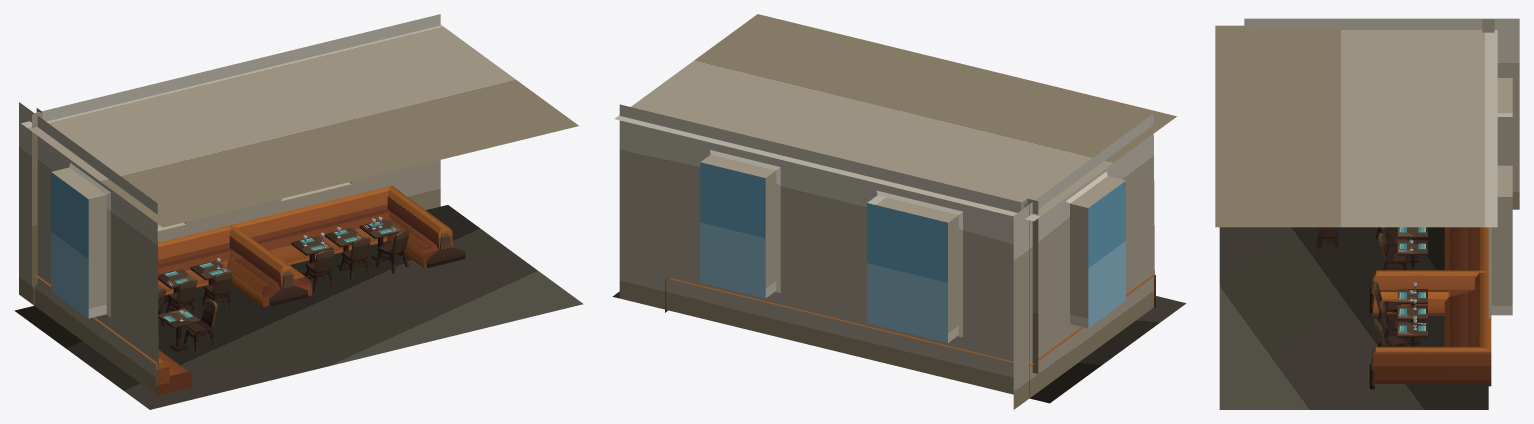
The model's file is RestaurantTextured.fbx.
The picture shows the model from 3 angles, left to right: view 1: azimuth 30°, elevation 25°; view 2: azimuth 150°, elevation 25°; view 3: azimuth 270°, elevation 25°; orthographic projection.
Visible parts, largest first — view 1: polySurface170, polySurface198, polySurface186, polySurface197, polySurface188, polySurface185, polySurface173, polySurface177, polySurface196, polySurface187, polySurface168, polySurface184 (+5 smaller); view 2: polySurface188, polySurface170, polySurface186, polySurface198, polySurface173, polySurface197; view 3: polySurface170, polySurface198, polySurface197, polySurface186, polySurface188, polySurface185, polySurface177, polySurface180, polySurface196, polySurface187, polySurface184, polySurface168 (+2 smaller).
Boxes of the visible parts, x1,y1,x2,y2 form: polySurface170: (21, 25, 578, 227); polySurface198: (14, 205, 583, 409); polySurface186: (19, 102, 158, 396); polySurface197: (31, 186, 453, 396); polySurface188: (33, 14, 440, 305); polySurface185: (291, 219, 401, 278); polySurface173: (32, 108, 42, 285); polySurface177: (158, 260, 232, 311); polySurface196: (183, 299, 217, 350); polySurface187: (339, 237, 371, 279); polySurface168: (375, 229, 409, 273); polySurface184: (305, 249, 335, 291); polySurface188: (619, 104, 1029, 398); polySurface170: (614, 14, 1176, 221); polySurface186: (1013, 113, 1154, 409); polySurface198: (612, 291, 1185, 403); polySurface173: (1021, 198, 1038, 373); polySurface197: (665, 274, 1155, 366); polySurface170: (1215, 25, 1497, 227); polySurface198: (1219, 227, 1488, 409); polySurface197: (1372, 227, 1491, 386); polySurface186: (1244, 18, 1519, 209); polySurface188: (1488, 78, 1512, 318); polySurface185: (1397, 289, 1427, 346); polySurface177: (1397, 227, 1427, 269); polySurface180: (1378, 233, 1407, 269); polySurface196: (1316, 227, 1339, 256); polySurface187: (1379, 300, 1408, 346); polySurface184: (1372, 281, 1401, 323); polySurface168: (1373, 319, 1404, 346).
Size of the model in its own units: 441 by 191 by 269.
